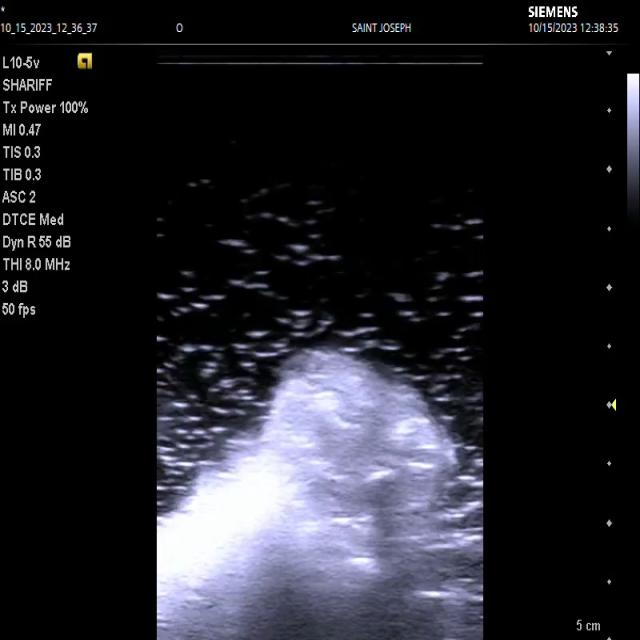tissue: (157, 350, 458, 640)
